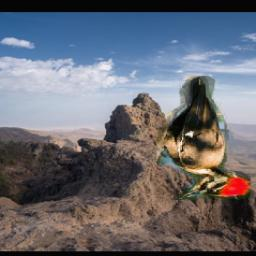Woodpecker: (154, 77, 252, 201)
